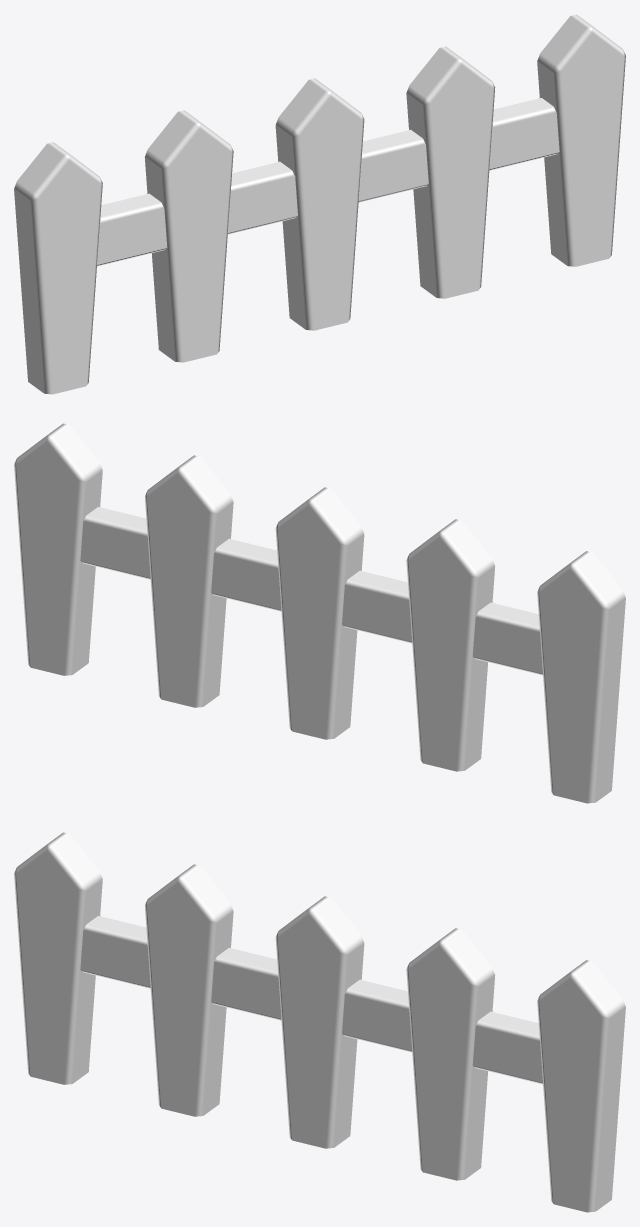
File: Fence_WhitePicket.fbx
3 renders of one model, top to bottom at view 1: azimuth 30°, elevation 25°; view 2: azimuth 150°, elevation 25°; view 3: azimuth 330°, elevation 25°, orthographic.
Parts seen in each view (by area): view 1: Cube.093, Cube.095; view 2: Cube.093, Cube.095; view 3: Cube.093, Cube.095.
Boxes of the visible parts, x1,y1,x2,y2 form: Cube.093: (14, 14, 625, 394); Cube.095: (97, 98, 559, 266); Cube.093: (14, 423, 625, 803); Cube.095: (80, 507, 542, 675); Cube.093: (14, 832, 625, 1212); Cube.095: (80, 916, 542, 1084).
Bounding box in the file's own units: 311 × 117 × 20.
